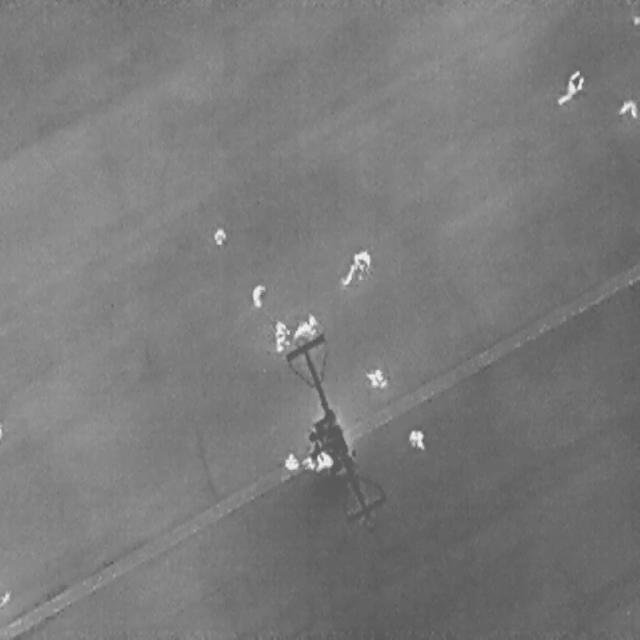Person: (554, 66, 587, 112), (289, 309, 321, 346), (337, 258, 359, 288), (273, 320, 289, 352), (365, 366, 386, 389), (314, 450, 333, 471), (616, 99, 637, 118), (250, 282, 265, 308), (353, 246, 370, 266), (409, 429, 424, 450), (283, 451, 298, 469), (212, 225, 225, 245)
